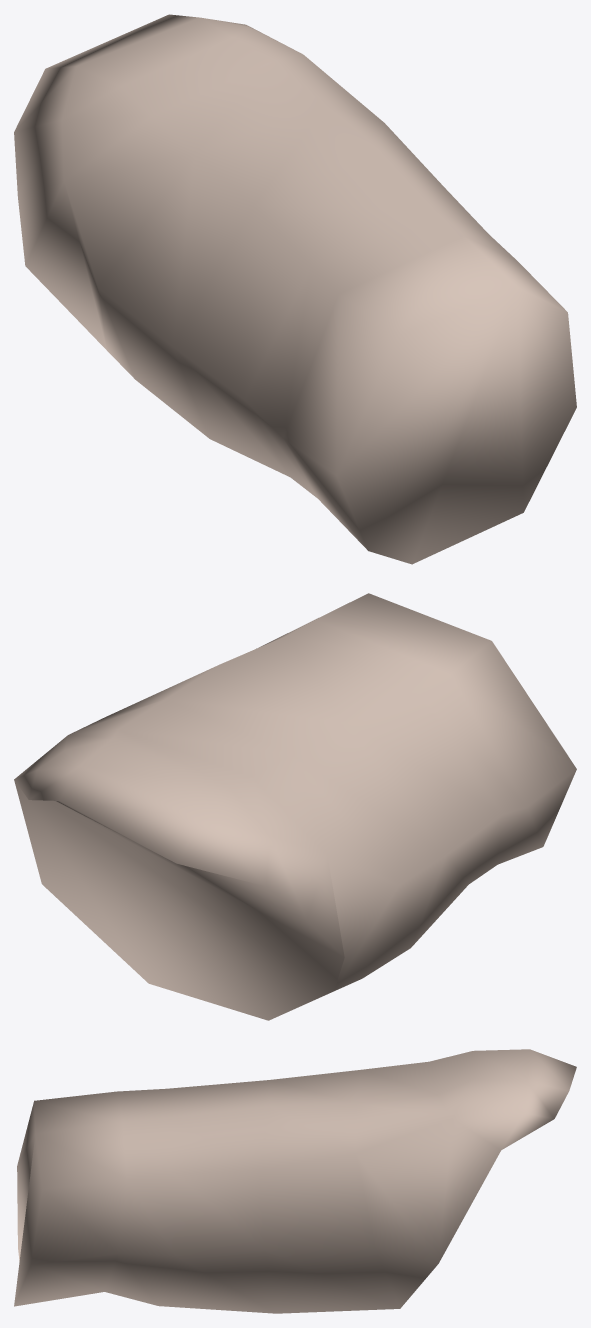
Rendered from RRing2ndPhalange.dae.
3 renders of one model, top to bottom at view 1: azimuth 30°, elevation 25°; view 2: azimuth 150°, elevation 25°; view 3: azimuth 270°, elevation 25°, orthographic. The views are drawn at different scales.
Visible parts, largest first — view 1: ShapeIndexedFaceSet; view 2: ShapeIndexedFaceSet; view 3: ShapeIndexedFaceSet.
Boxes of the visible parts, left/top/right/bottom form: ShapeIndexedFaceSet: left=14, top=14, right=576, bottom=564; ShapeIndexedFaceSet: left=14, top=593, right=576, bottom=1020; ShapeIndexedFaceSet: left=14, top=1049, right=576, bottom=1313.
Size of the model in its own units: 0.0175 by 0.0337 by 0.0163.
